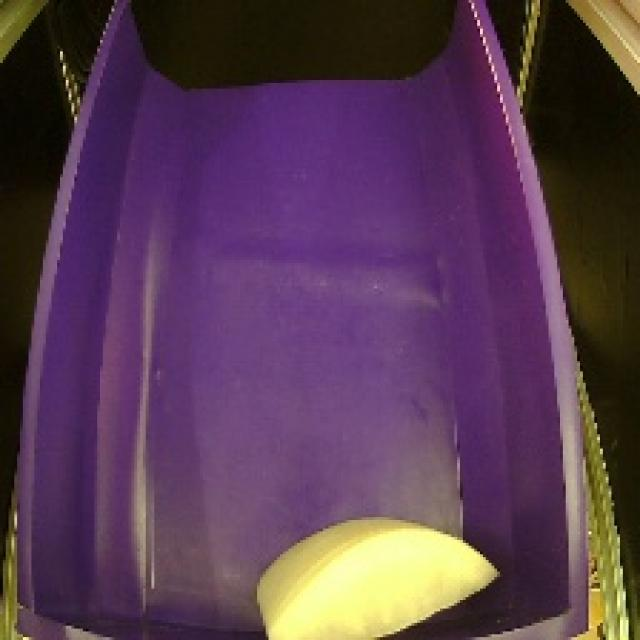white_radish: (246, 510, 509, 640)
